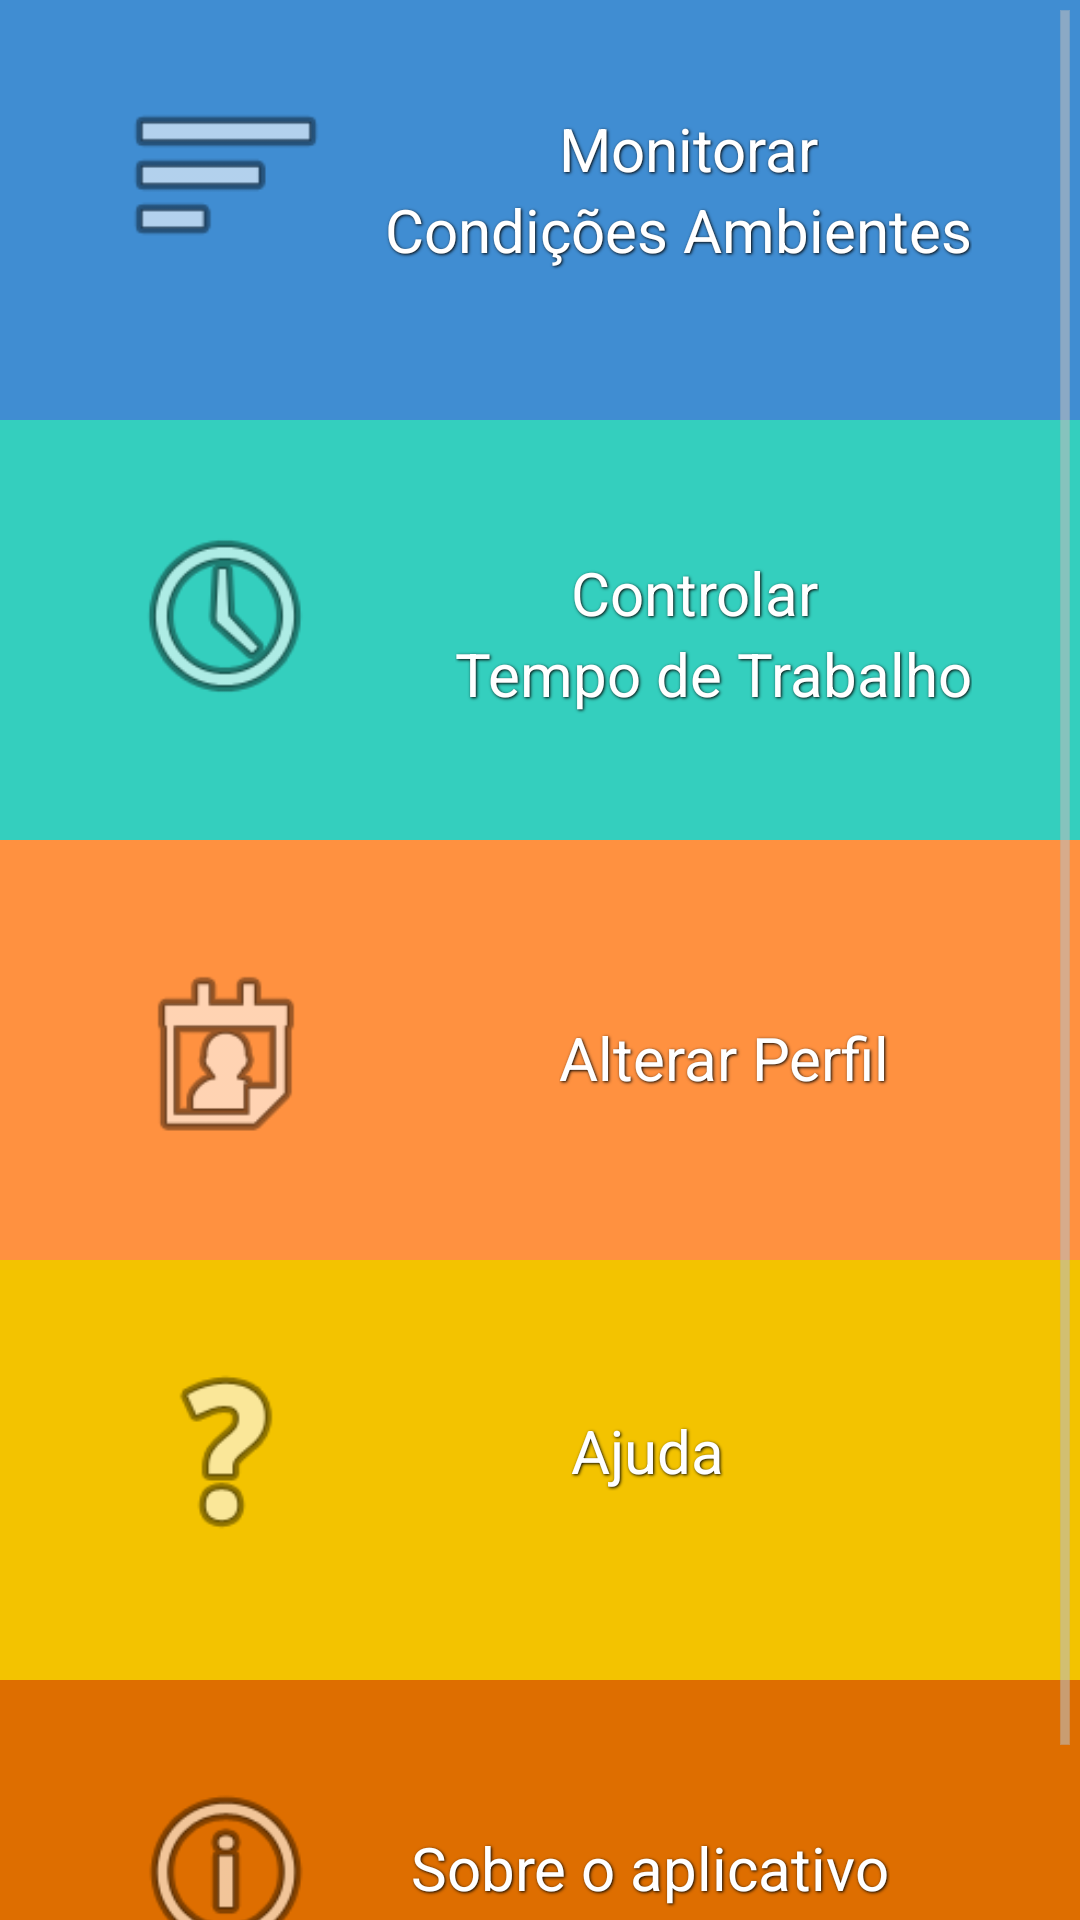

Named icons in this screenshot (1080x1920) and their centers, [x,y]:
calendar: [226,1054]
help: [226,1452]
recent history: [225,616]
sort by size: [226,175]
